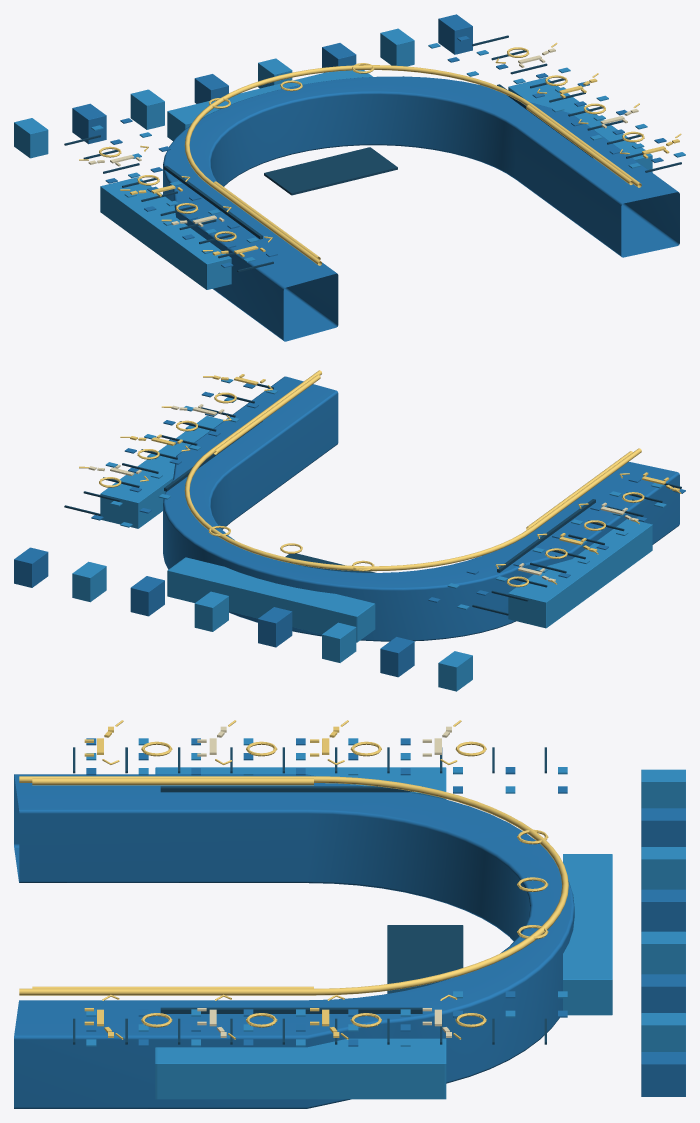
Rendered from ishtar_blue_gate.glb.
3 renders of one model, top to bottom at view 1: azimuth 30°, elevation 25°; view 2: azimuth 150°, elevation 25°; view 3: azimuth 270°, elevation 25°, orthographic. The views are drawn at different scales.
Parts seen in each view (by area): view 1: deep blue glazed round arch clear aperture, massive blue glazed side pier, gold glazed round arch band, recessed shadow inside arched reveal, massive blue glazed side pier.001, upper blue brick crown over round arch, stepped battlement merlon 00, stepped battlement merlon 02, stepped battlement merlon 06, stepped battlement merlon 07, stepped battlement merlon 01, stepped battlement merlon 03 (+4 smaller); view 2: deep blue glazed round arch clear aperture, upper blue brick crown over round arch, massive blue glazed side pier, massive blue glazed side pier.001, gold glazed round arch band, stepped battlement merlon 03, stepped battlement merlon 01, stepped battlement merlon 05, stepped battlement merlon 07, stepped battlement merlon 00, stepped battlement merlon 04, stepped battlement merlon 06 (+3 smaller); view 3: deep blue glazed round arch clear aperture, massive blue glazed side pier.001, gold glazed round arch band, upper blue brick crown over round arch, recessed shadow inside arched reveal, massive blue glazed side pier, vertical gold jamb band, stepped battlement merlon 07, stepped battlement merlon 04, stepped battlement merlon 02, stepped battlement merlon 03, stepped battlement merlon 00 (+6 smaller).
Part boxes in pixels (x1,y1,x2,y2): deep blue glazed round arch clear aperture: (163, 76, 679, 341); massive blue glazed side pier: (100, 177, 231, 289); gold glazed round arch band: (184, 65, 641, 265); recessed shadow inside arched reveal: (264, 147, 397, 195); massive blue glazed side pier.001: (508, 77, 652, 172); upper blue brick crown over round arch: (167, 70, 372, 140); stepped battlement merlon 00: (14, 118, 48, 158); stepped battlement merlon 02: (130, 89, 164, 129); stepped battlement merlon 06: (380, 28, 414, 66); stepped battlement merlon 07: (438, 14, 472, 54); stepped battlement merlon 01: (72, 103, 106, 144); stepped battlement merlon 03: (194, 74, 228, 103); deep blue glazed round arch clear aperture: (163, 376, 679, 641); upper blue brick crown over round arch: (167, 557, 375, 642); massive blue glazed side pier: (508, 519, 652, 628); massive blue glazed side pier.001: (100, 416, 222, 528); gold glazed round arch band: (184, 370, 641, 571); stepped battlement merlon 03: (258, 607, 292, 647); stepped battlement merlon 01: (380, 637, 414, 677); stepped battlement merlon 05: (130, 576, 164, 616); stepped battlement merlon 07: (14, 547, 48, 587); stepped battlement merlon 00: (438, 651, 472, 691); stepped battlement merlon 04: (194, 591, 228, 631); stepped battlement merlon 06: (72, 561, 106, 602); deep blue glazed round arch clear aperture: (14, 774, 574, 1108); massive blue glazed side pier.001: (155, 1038, 446, 1099); gold glazed round arch band: (19, 776, 568, 995); upper blue brick crown over round arch: (563, 854, 612, 1015); recessed shadow inside arched reveal: (387, 925, 463, 993); massive blue glazed side pier: (155, 767, 446, 799); vertical gold jamb band: (32, 778, 313, 785); stepped battlement merlon 07: (641, 1052, 685, 1096); stepped battlement merlon 04: (641, 931, 685, 974); stepped battlement merlon 02: (641, 847, 685, 889); stepped battlement merlon 03: (641, 889, 685, 931); stepped battlement merlon 00: (641, 769, 685, 808).
Size of the model in its own units: 5.75 by 0.8376 by 5.13.
